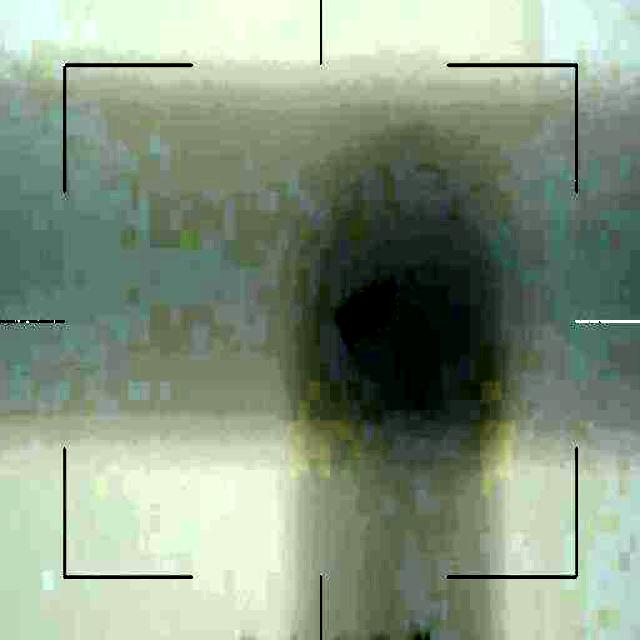bird: (334, 288, 390, 338)
